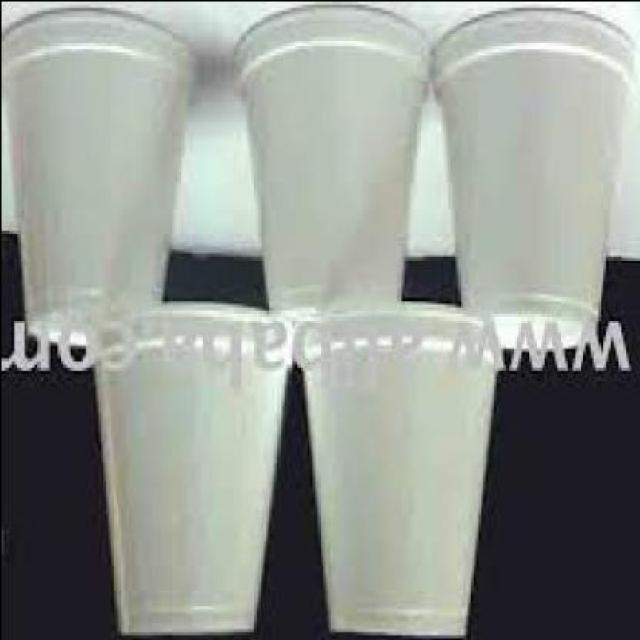PAPER: (433, 9, 635, 351), (97, 304, 303, 638), (298, 309, 504, 637), (2, 15, 192, 354), (232, 3, 434, 319)
